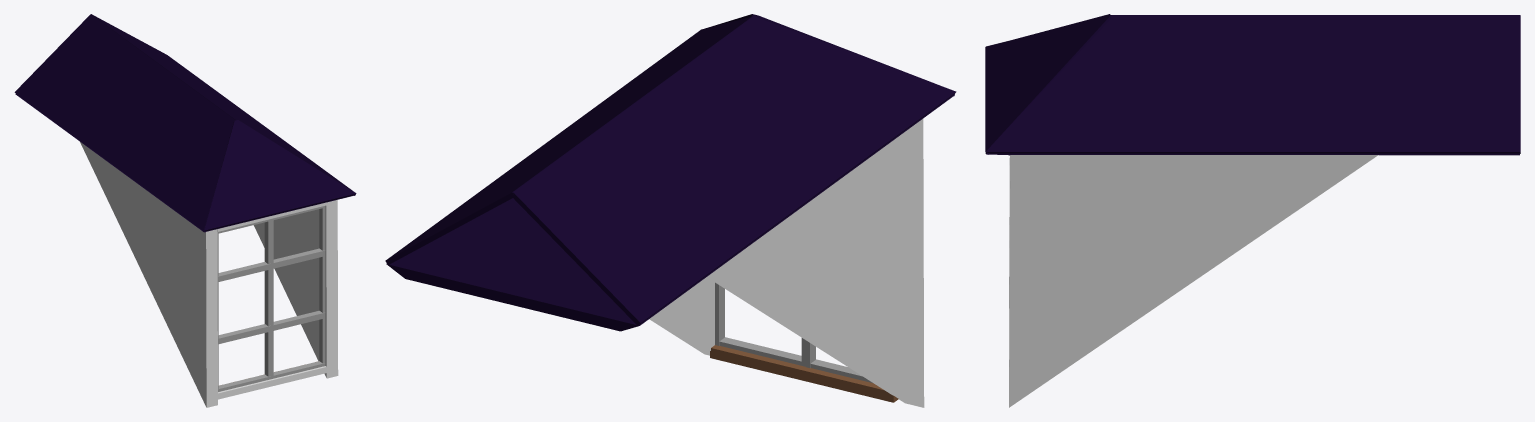
The model's file is ventana.fbx.
The picture shows the model from 3 angles, left to right: view 1: azimuth 30°, elevation 25°; view 2: azimuth 150°, elevation 25°; view 3: azimuth 270°, elevation 25°; orthographic projection. The views are drawn at different scales.
Parts seen in each view (by area): view 1: Cube.006; view 2: Cube.006; view 3: Cube.006.
Part boxes in pixels (x1,y1,x2,y2): Cube.006: (14,14,356,407); Cube.006: (385,14,956,407); Cube.006: (985,14,1520,407).
Size of the model in its own units: 635 by 974 by 1360.
